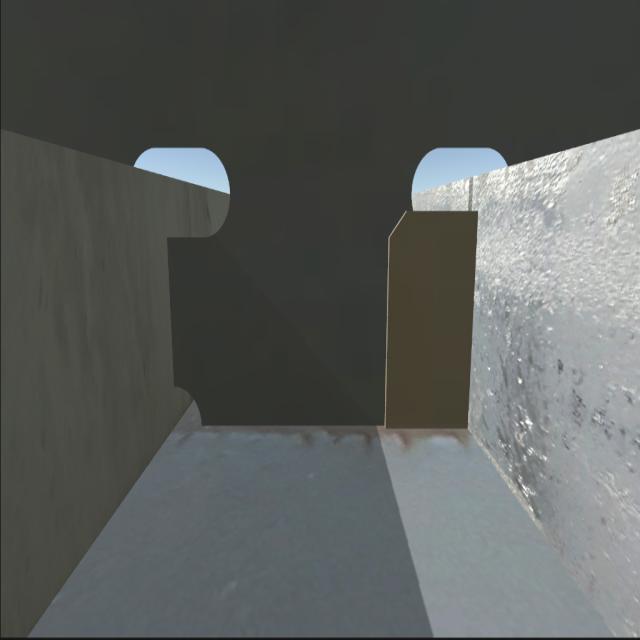fillet_hole: (168, 387, 206, 433)
fillet_yong_jeop_jang: (210, 422, 470, 436)
longi_yong_jeop_jang: (163, 241, 183, 373), (469, 211, 478, 434)
plate_CP01: (386, 210, 478, 431)
